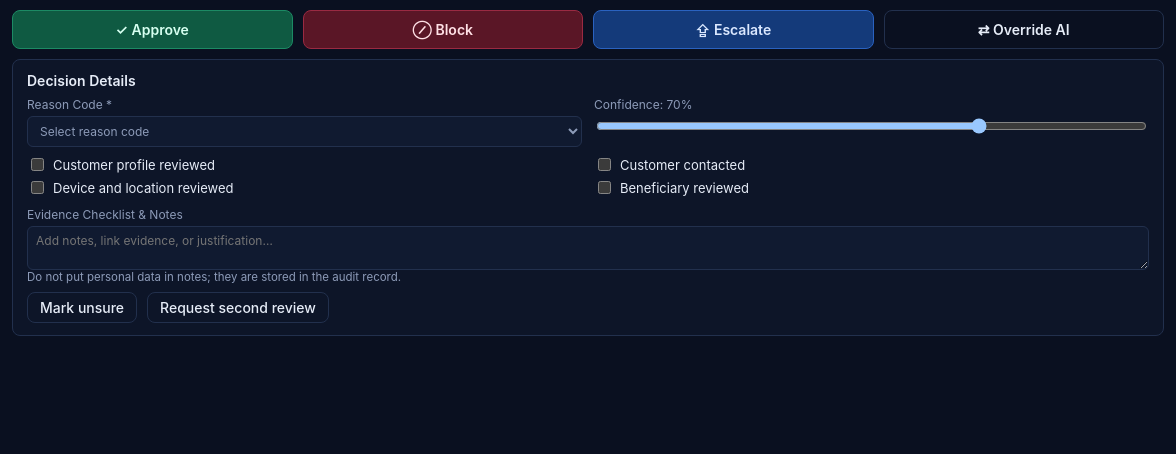
Test case: ActionPanel › refuses to send an override with no reason code, and says why (FR-26)
Click the button "⇄ Override AI": (1024, 30) [884, 10, 1164, 49]
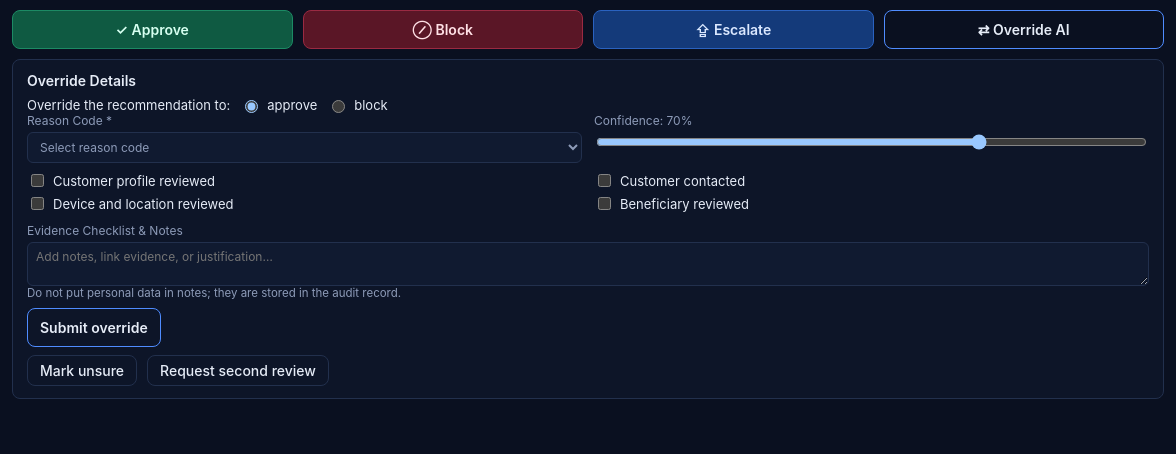
Click the button "Submit override": (94, 328) [27, 308, 161, 347]
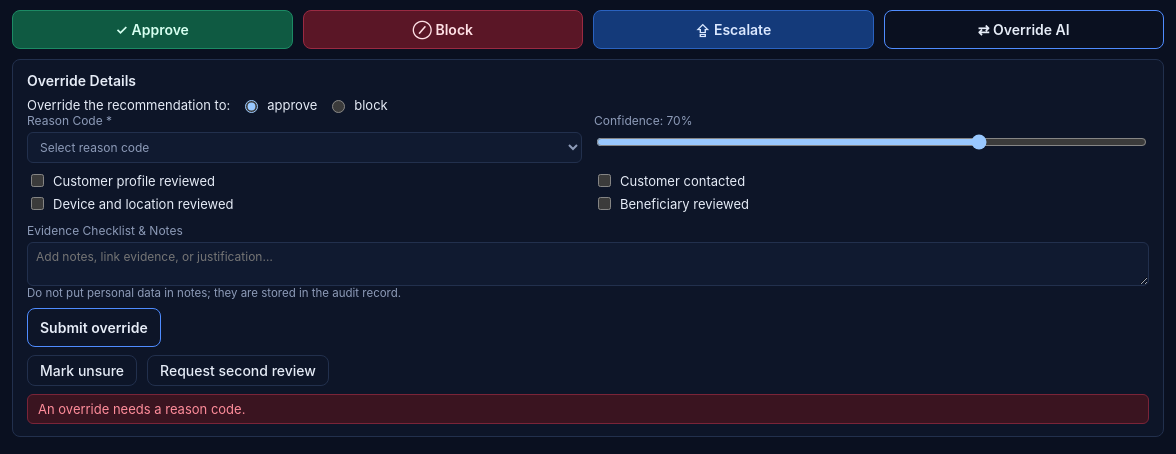
Check: the message shows "override needs a reason code", box [38, 401, 245, 417]
